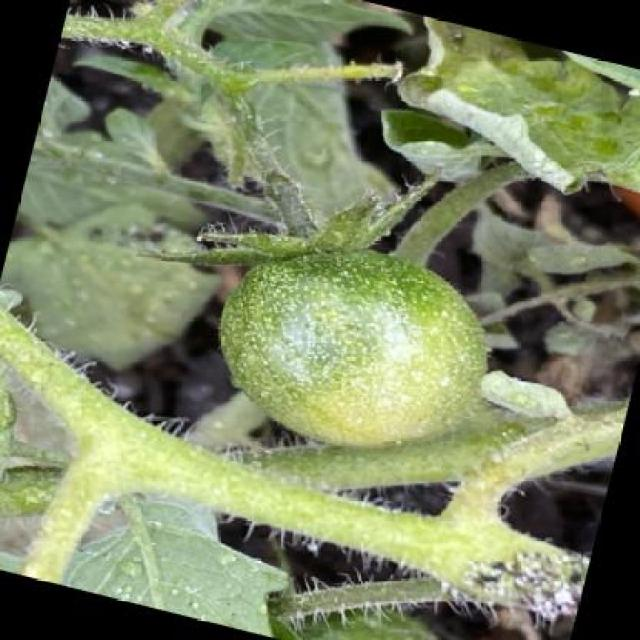unripe tomato: (193, 215, 512, 479)
